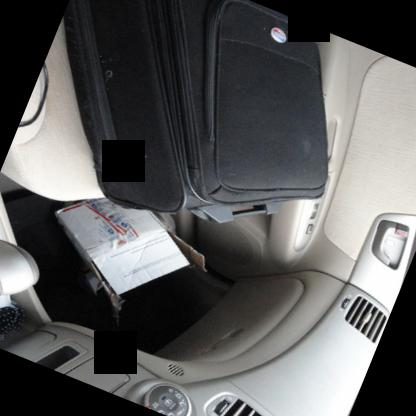suitcase: (65, 0, 322, 219)
